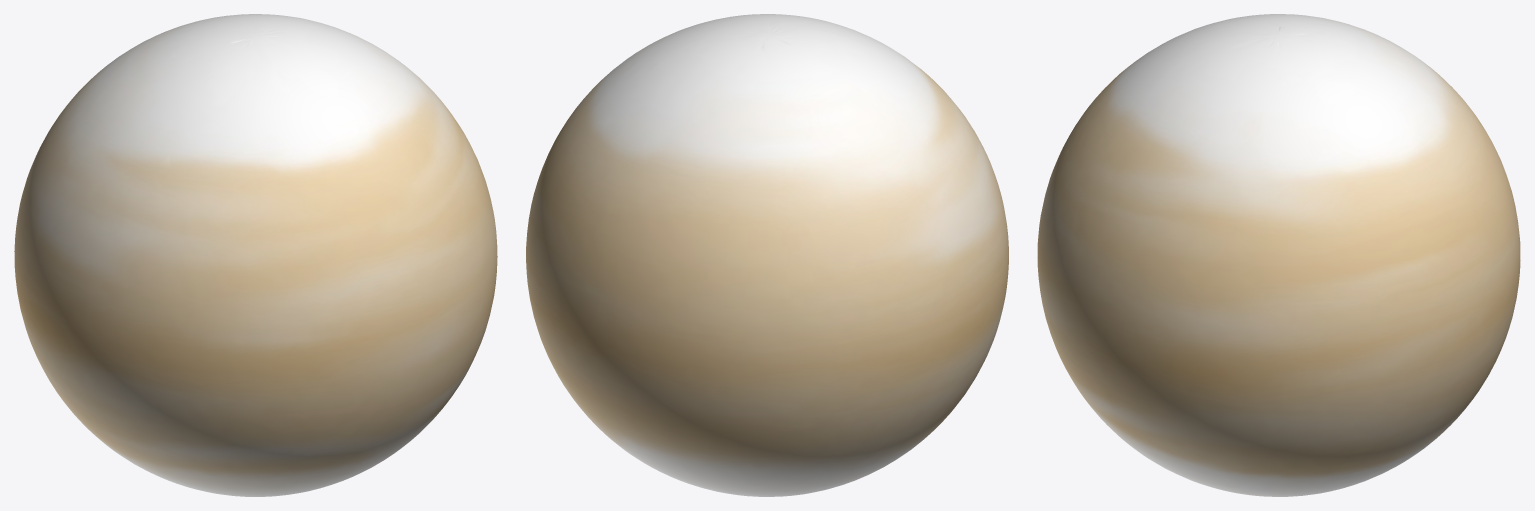
File: venus.glb
3 views of the same model, side by side, from view 1: azimuth 30°, elevation 25°; view 2: azimuth 150°, elevation 25°; view 3: azimuth 270°, elevation 25° (orthographic).
Parts seen in each view (by area): view 1: Venus_surface_cylindrically_mapped_sphere:Mesh; view 2: Venus_surface_cylindrically_mapped_sphere:Mesh; view 3: Venus_surface_cylindrically_mapped_sphere:Mesh.
Boxes of the visible parts, left/top/right/bottom form: Venus_surface_cylindrically_mapped_sphere:Mesh: left=14, top=14, right=497, bottom=496; Venus_surface_cylindrically_mapped_sphere:Mesh: left=526, top=14, right=1008, bottom=496; Venus_surface_cylindrically_mapped_sphere:Mesh: left=1037, top=14, right=1520, bottom=496.
Bounding box in the file's own units: 2 × 2 × 2.
Materials: 1 (1 with a texture image).
